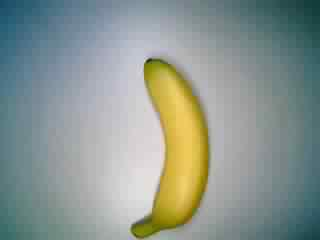banana: (125, 52, 210, 238)
